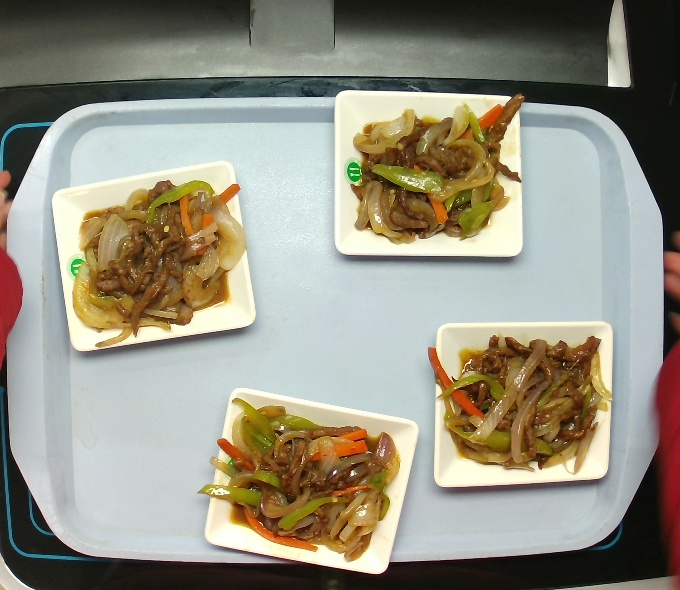wcq-NiuYangCongNiuLiu: (64, 174, 252, 344), (202, 397, 402, 555), (339, 93, 533, 245), (430, 326, 611, 474)
